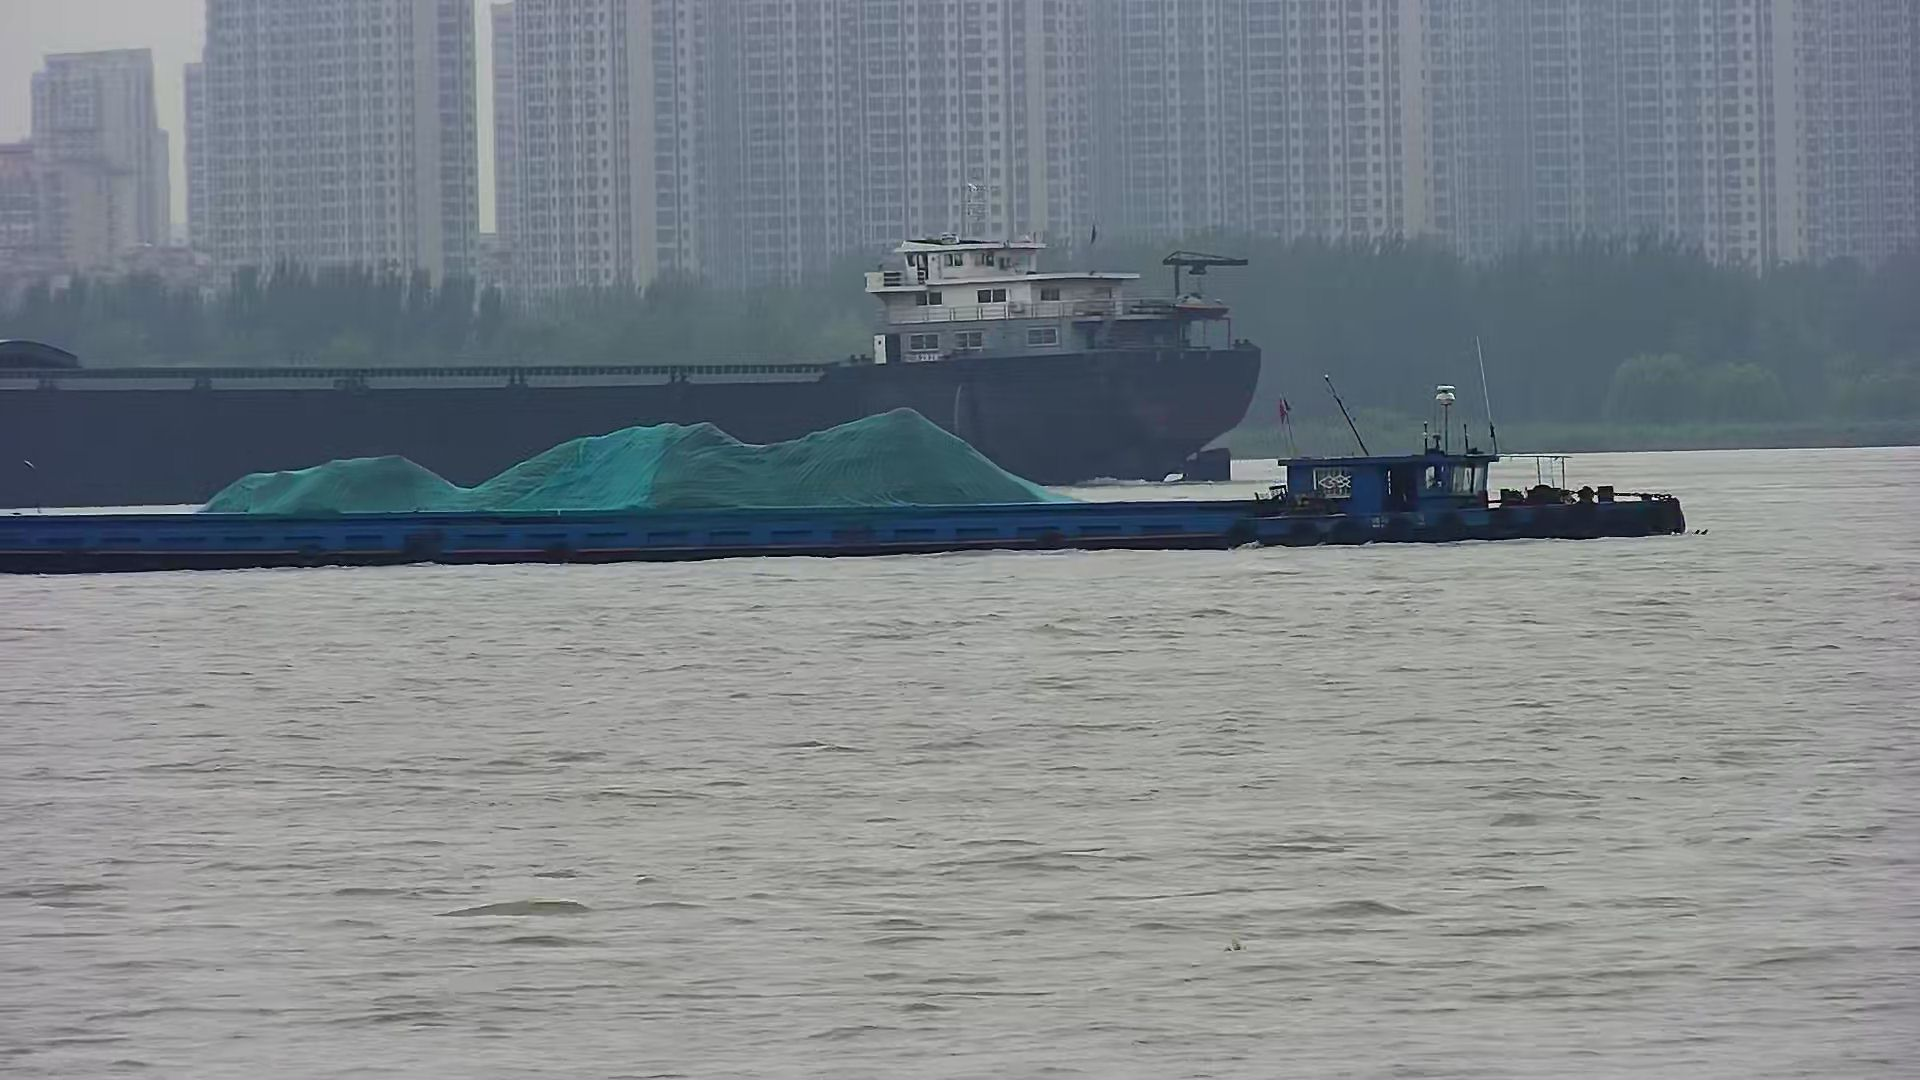ship: (1, 181, 1265, 487), (1, 381, 1687, 574)
